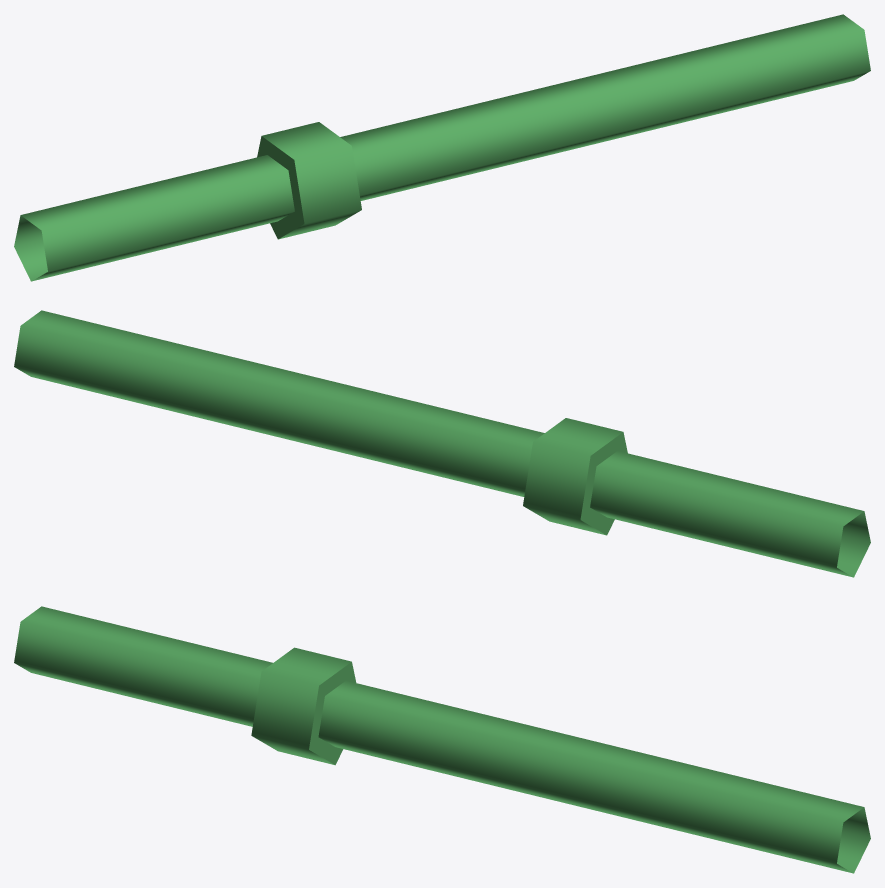
The model's file is PipeB_1.fbx.
3 views of the same model, one above another, from view 1: azimuth 30°, elevation 25°; view 2: azimuth 150°, elevation 25°; view 3: azimuth 330°, elevation 25° (orthographic).
Visible parts, largest first — view 1: PipeB_1; view 2: PipeB_1; view 3: PipeB_1.
Part boxes in pixels (x1,y1,x2,y2): PipeB_1: [14, 14, 870, 281]; PipeB_1: [14, 310, 870, 577]; PipeB_1: [14, 606, 870, 873].
Size of the model in its own units: 220 by 23.42 by 24.63.
